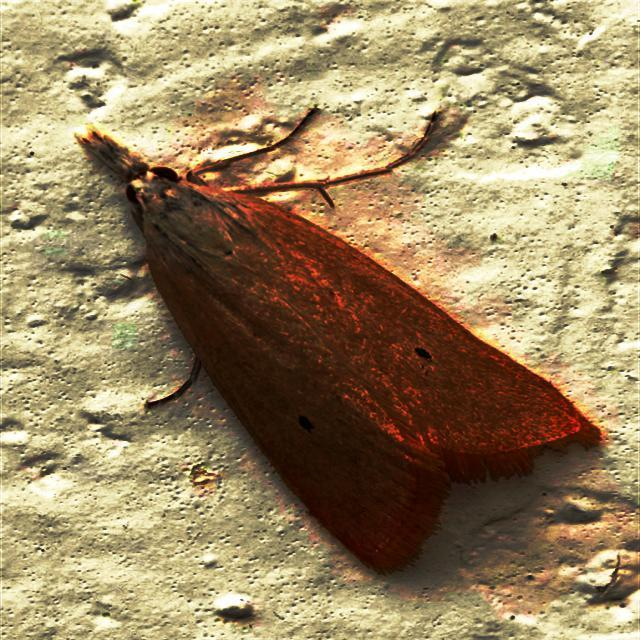stem-borer: (74, 104, 604, 578)
